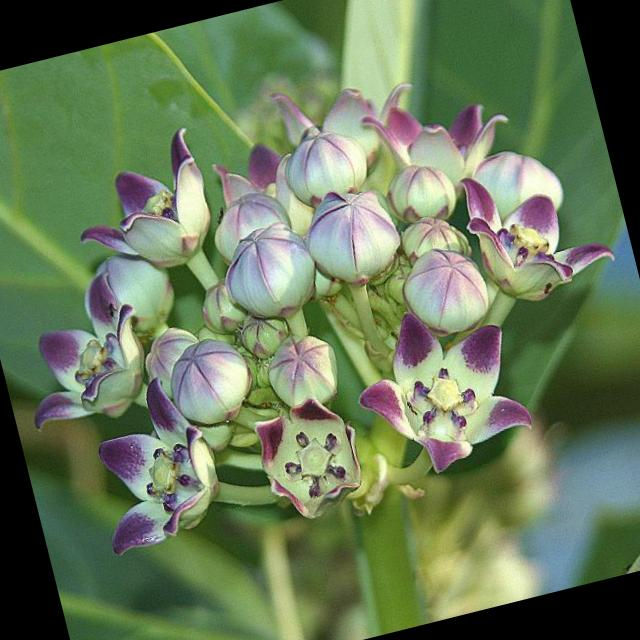Poisonous-Calatropis: (0, 17, 640, 581)
